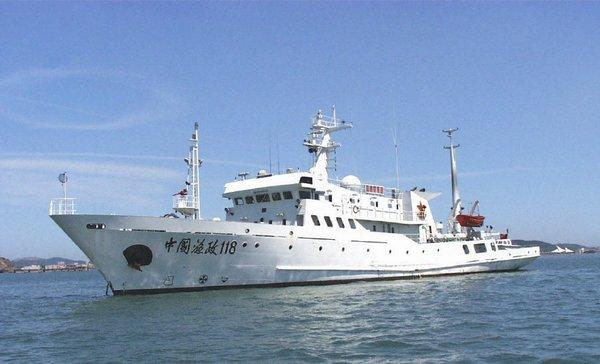warship: (42, 107, 546, 296)
